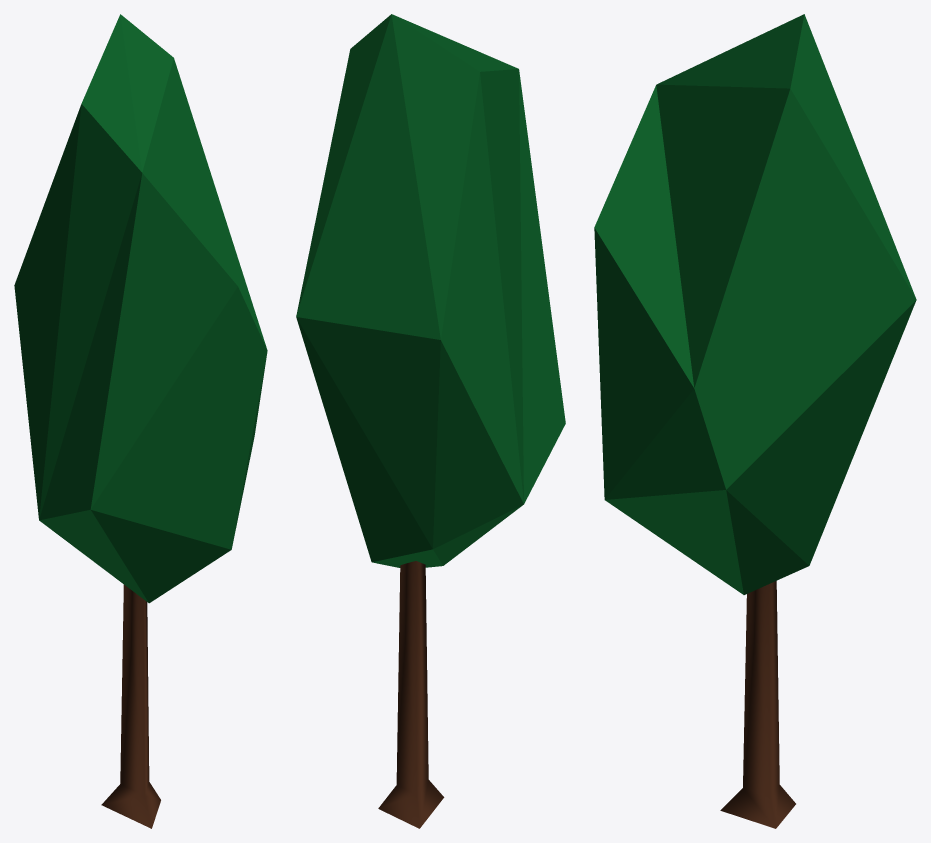
The model's file is Tree4.FBX.
The picture shows the model from 3 angles, left to right: view 1: azimuth 30°, elevation 25°; view 2: azimuth 150°, elevation 25°; view 3: azimuth 270°, elevation 25°; orthographic projection. The views are drawn at different scales.
Parts seen in each view (by area): view 1: Sphere014; view 2: Sphere014; view 3: Sphere014.
Boxes of the visible parts, x1=… form: Sphere014: x1=14, y1=14, x2=267, y2=828; Sphere014: x1=296, y1=14, x2=565, y2=828; Sphere014: x1=594, y1=14, x2=916, y2=828.
Size of the model in its own units: 4.56 by 17.02 by 6.2.
